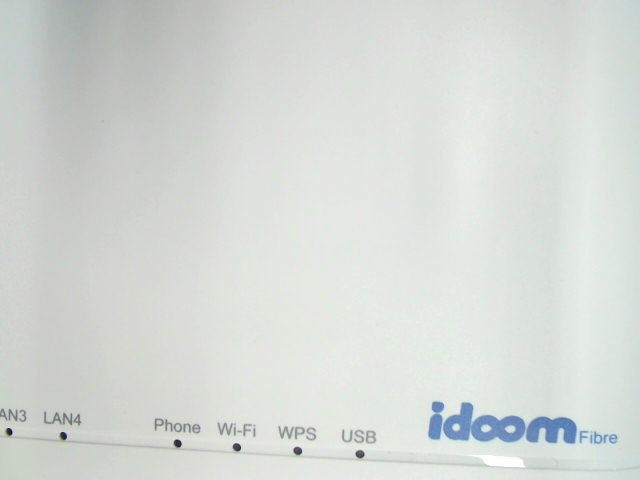BB_idoom: (421, 392, 619, 453)
